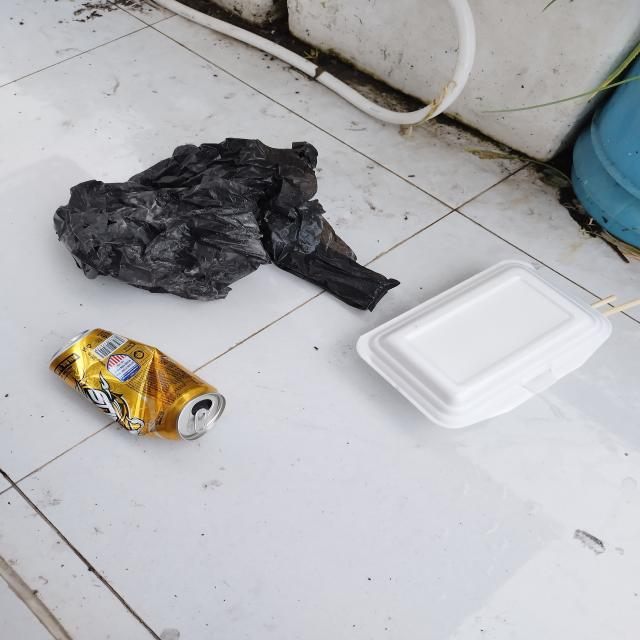bag: (52, 136, 406, 317)
can: (47, 326, 227, 442)
foam box: (354, 260, 613, 430)
